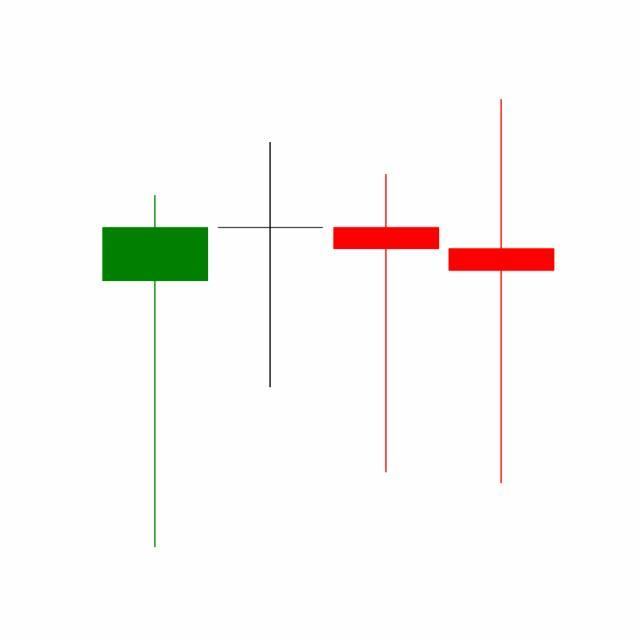Spinning Top: (329, 171, 445, 477)
